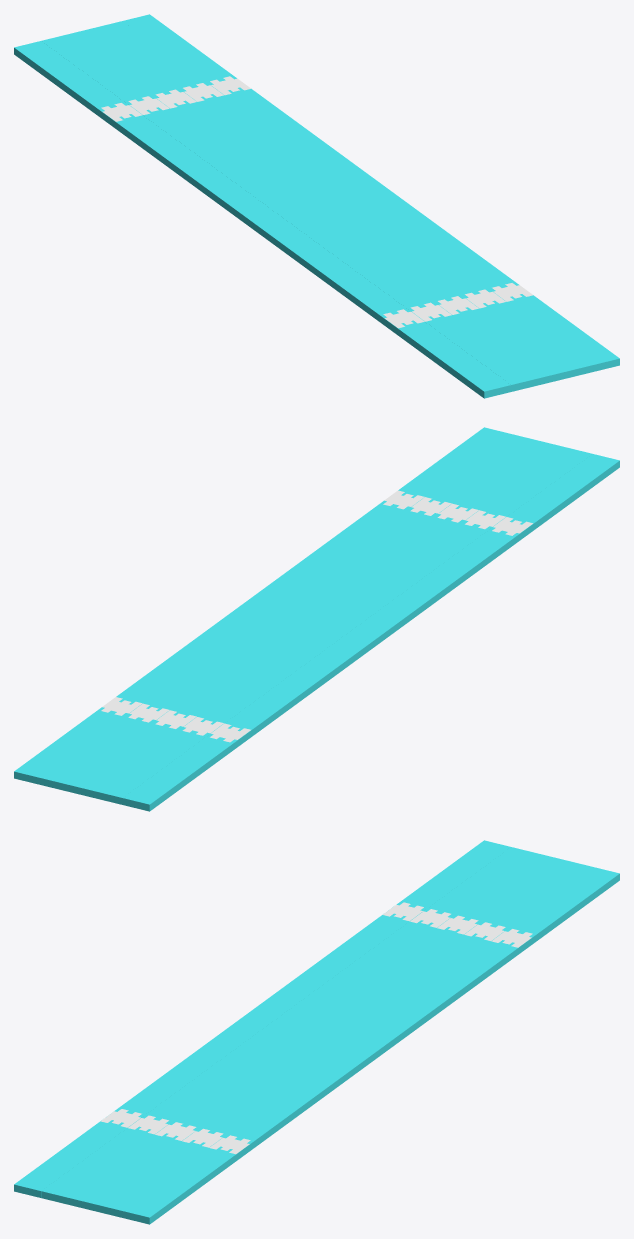
Rendered from SM_water5.fbx.
3 renders of one model, top to bottom at view 1: azimuth 30°, elevation 25°; view 2: azimuth 150°, elevation 25°; view 3: azimuth 330°, elevation 25°, orthographic.
Parts seen in each view (by area): view 1: Water5; view 2: Water5; view 3: Water5.
Part boxes in pixels (bbox=[...]): Water5: bbox=[14, 14, 619, 398]; Water5: bbox=[14, 427, 619, 811]; Water5: bbox=[14, 840, 619, 1224].
Bounding box in the file's own units: 500 × 25 × 3000.
